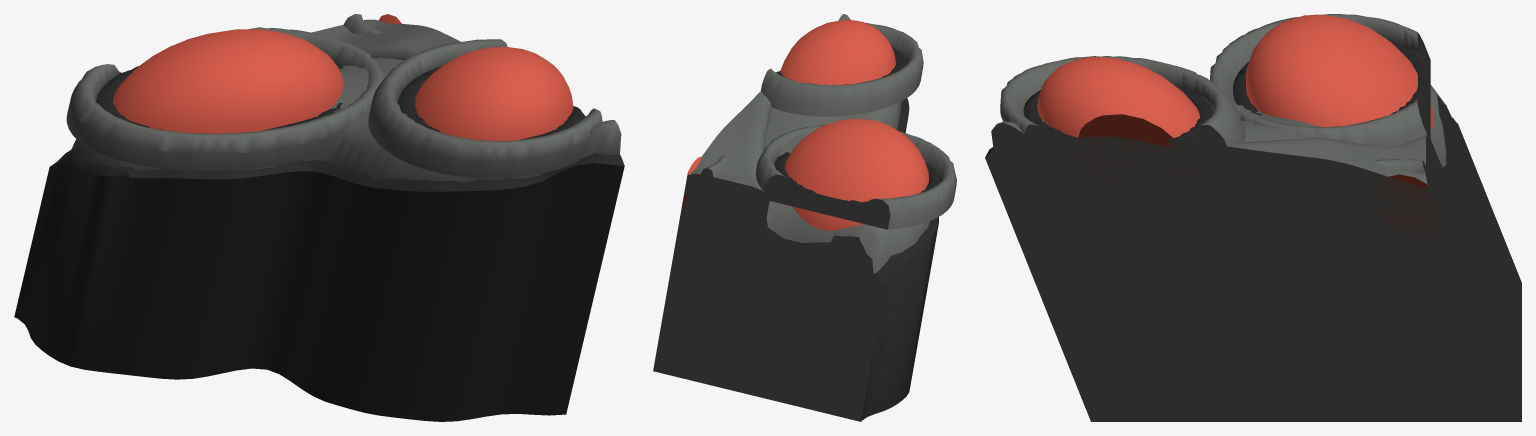
The model's file is dread_shoulder_r_119.glb.
3 views of the same model, side by side, from view 1: azimuth 30°, elevation 25°; view 2: azimuth 150°, elevation 25°; view 3: azimuth 270°, elevation 25° (orthographic). The views are drawn at different scales.
Parts seen in each view (by area): view 1: dread_shoulder_r_119; view 2: dread_shoulder_r_119; view 3: dread_shoulder_r_119.
Part boxes in pixels (x1,y1,x2,y2): dread_shoulder_r_119: (14, 14, 624, 421); dread_shoulder_r_119: (653, 14, 956, 421); dread_shoulder_r_119: (985, 14, 1521, 421).
Bounding box in the file's own units: 19.85 × 20.28 × 29.7.
